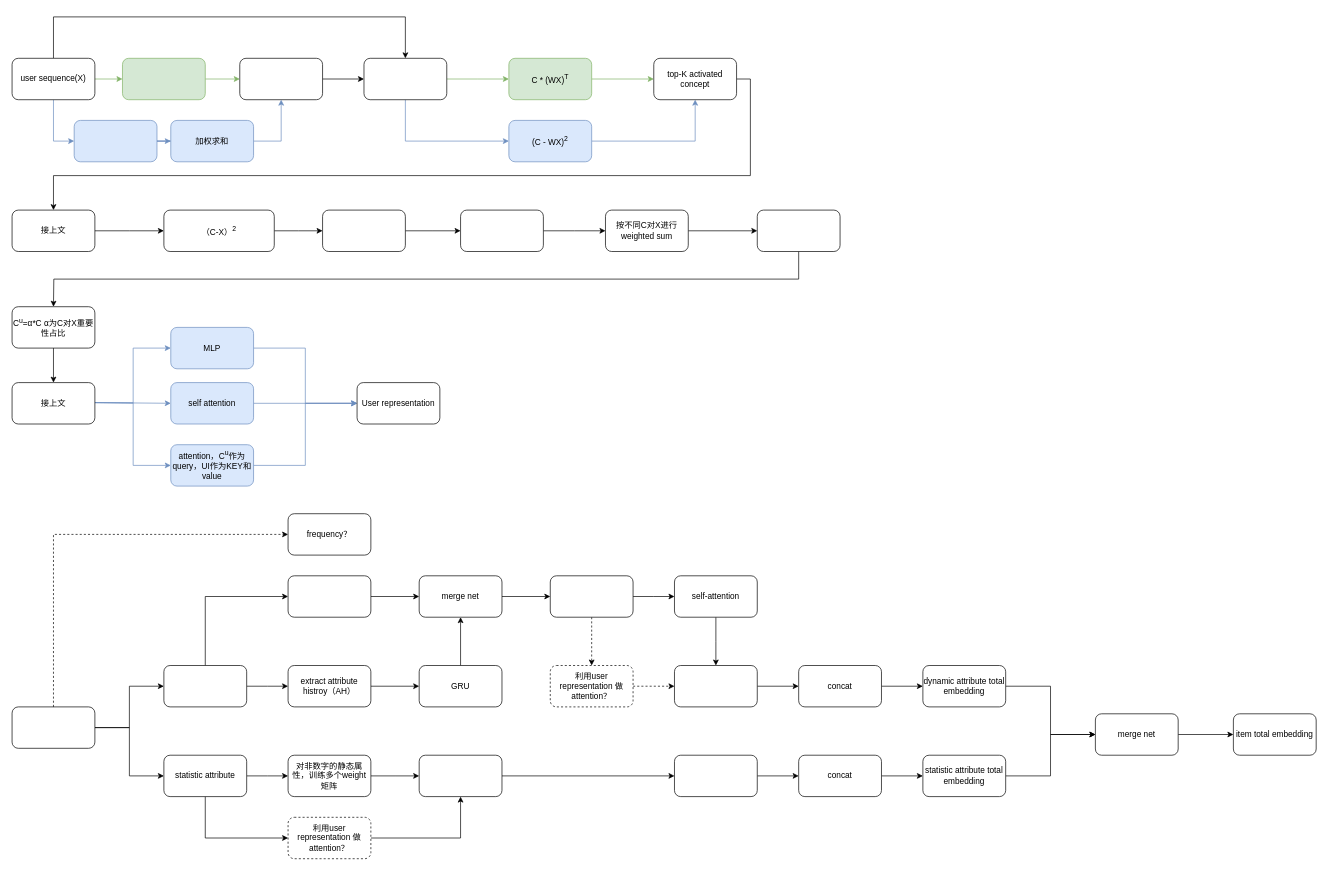
Image size: 1328x871. Some labels were removed from this diagram. Here are the shapes that lost their labels. From the top down, the centre of each, then its label:
At [163,79]: "linear+softmax".
At [281,79]: "sequence weight(A)".
At [405,79]: "weighted sum user sequence（WX = X*A）".
At [115,141]: "self-attention 的 weight计算".
At [363,230]: "softmax".
At [501,230]: "各C对X的重要性占比".
At [798,230]: "user interest（UI）".
At [329,596]: "静态特性（DSA）".
At [591,596]: "dynamic attribute value embedding".
At [205,686]: "dynamic attribute".
At [715,686]: "dynamic attribute embedding".
At [53,727]: "item".
At [460,776]: "weighted sum".
At [715,776]: "statistic attribute embedding".
